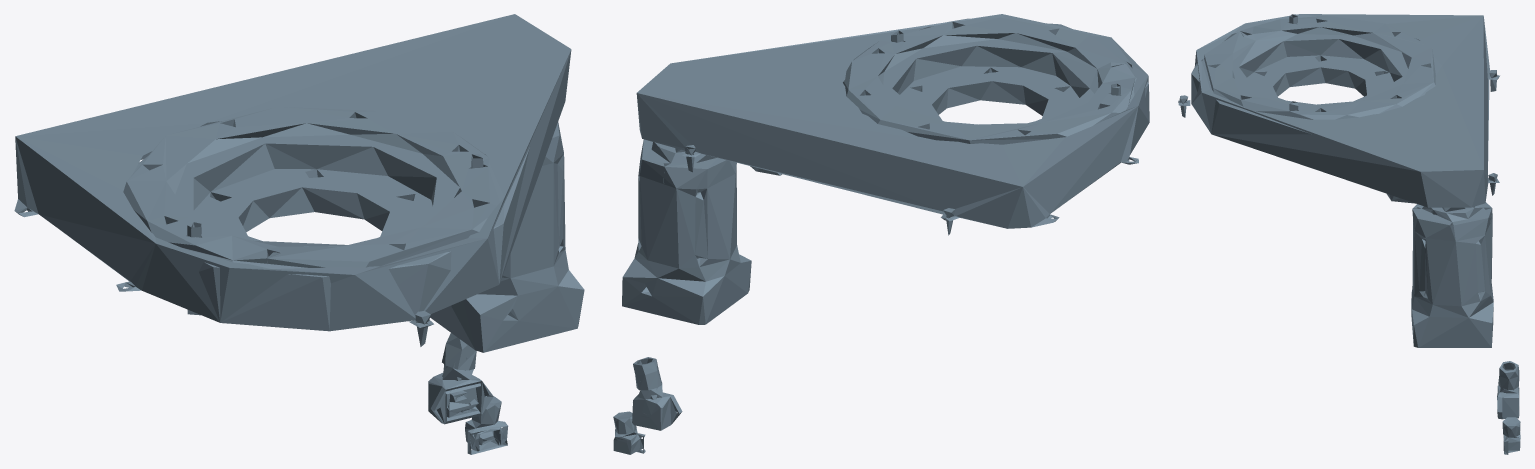
File: susp_FR.dae
3 views of the same model, side by side, from view 1: azimuth 30°, elevation 25°; view 2: azimuth 150°, elevation 25°; view 3: azimuth 270°, elevation 25° (orthographic). The views are drawn at different scales.
Visible parts, largest first — view 1: node; view 2: node; view 3: node.
Part boxes in pixels (x1,y1,x2,y2): node: [14, 14, 584, 454]; node: [613, 14, 1149, 454]; node: [1178, 14, 1520, 454].
Size of the model in its own units: 0.2896 by 0.2509 by 0.2356.
